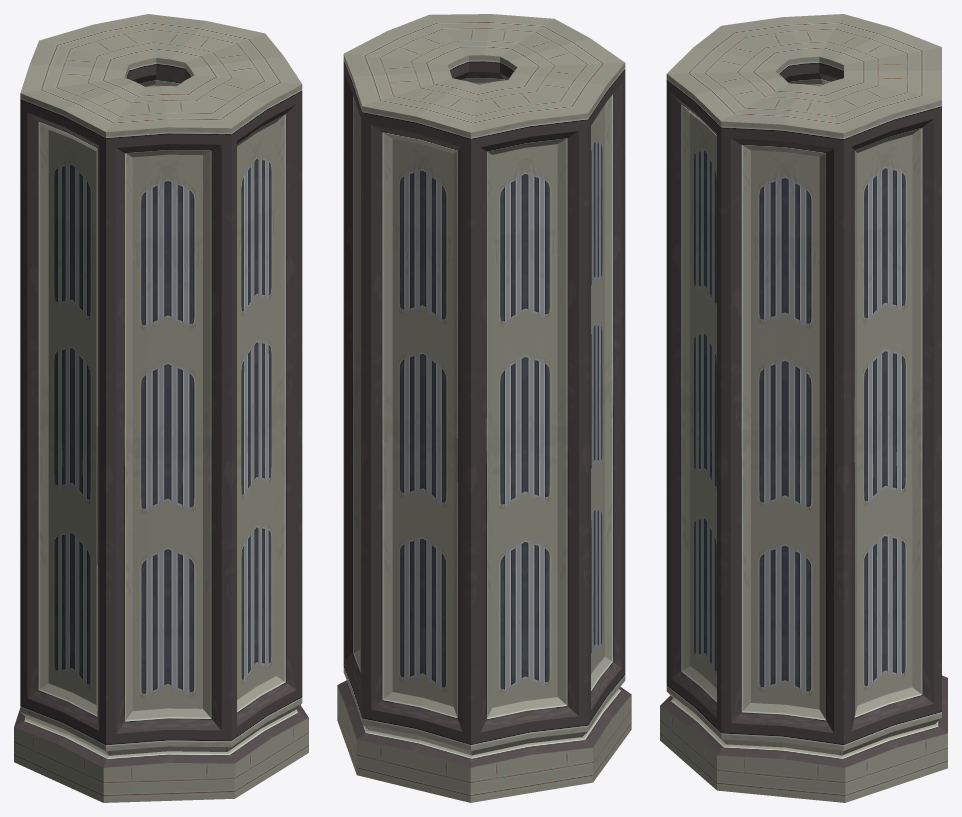
The model's file is KF_SM_XBuilding016.fbx.
3 renders of one model, left to right at view 1: azimuth 30°, elevation 25°; view 2: azimuth 150°, elevation 25°; view 3: azimuth 270°, elevation 25°, orthographic.
Parts seen in each view (by area): view 1: KF_SM_XBuilding016; view 2: KF_SM_XBuilding016; view 3: KF_SM_XBuilding016.
Part boxes in pixels (<box>): KF_SM_XBuilding016: <box>14,14,308,802</box>; KF_SM_XBuilding016: <box>337,14,631,802</box>; KF_SM_XBuilding016: <box>660,14,947,802</box>.
Bounding box in the file's own units: 3681 × 9215 × 3589.
